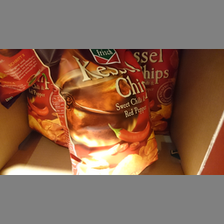chips: (35, 49, 166, 174)
